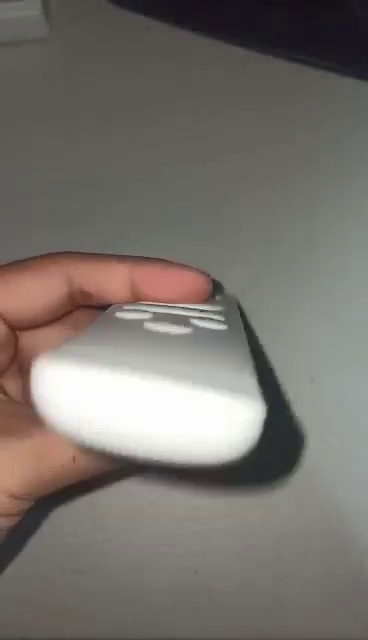remote: (26, 290, 270, 467)
